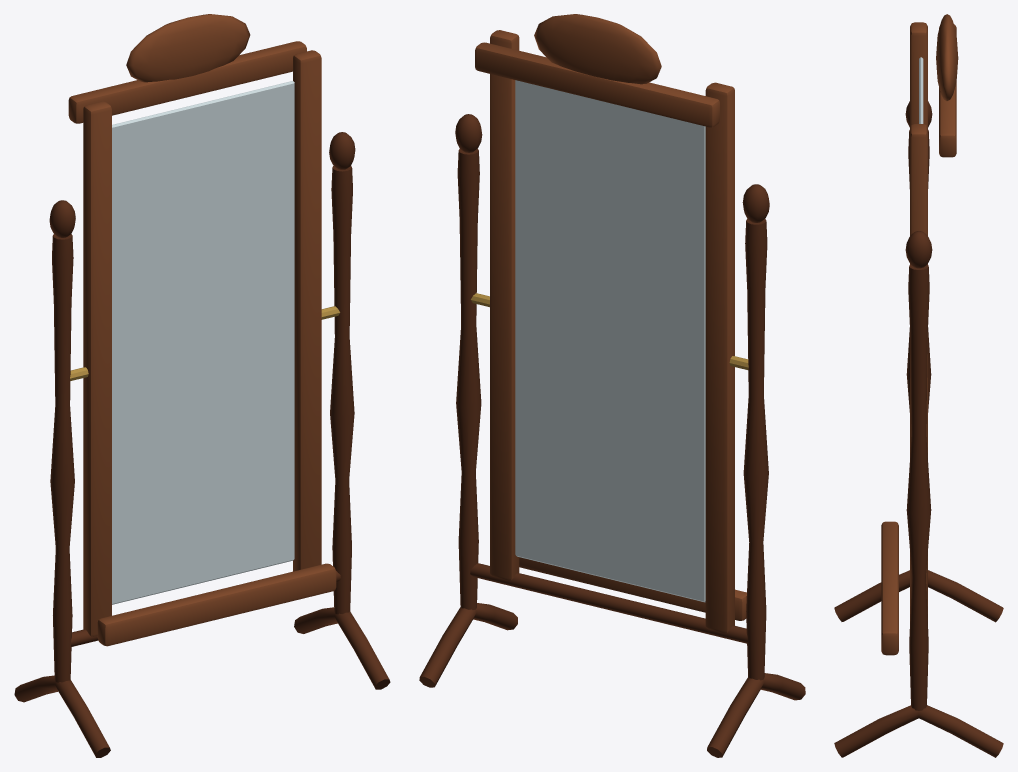
The model's file is PR_StandingMirror.fbx.
3 renders of one model, left to right at view 1: azimuth 30°, elevation 25°; view 2: azimuth 150°, elevation 25°; view 3: azimuth 270°, elevation 25°, orthographic. The views are drawn at different scales.
Visible parts, largest first — view 1: Mirror_MirrorPane, Mirror_Wood, PR_StandingMirror_WoodDark; view 2: Mirror_MirrorPane, Mirror_Wood, PR_StandingMirror_WoodDark; view 3: PR_StandingMirror_WoodDark, Mirror_Wood, Mirror_MirrorPane.
Part boxes in pixels (box(x1,y1,x2,y2)): Mirror_MirrorPane: box(112, 81, 294, 604); Mirror_Wood: box(68, 14, 336, 646); PR_StandingMirror_WoodDark: box(14, 132, 390, 757); Mirror_MirrorPane: box(515, 80, 705, 602); Mirror_Wood: box(475, 14, 746, 633); PR_StandingMirror_WoodDark: box(419, 114, 805, 757); PR_StandingMirror_WoodDark: box(834, 101, 1003, 757); Mirror_Wood: box(881, 14, 958, 655); Mirror_MirrorPane: box(919, 57, 923, 123).
Bounding box in the file's own units: 0.7771 × 1.64 × 0.3805.
